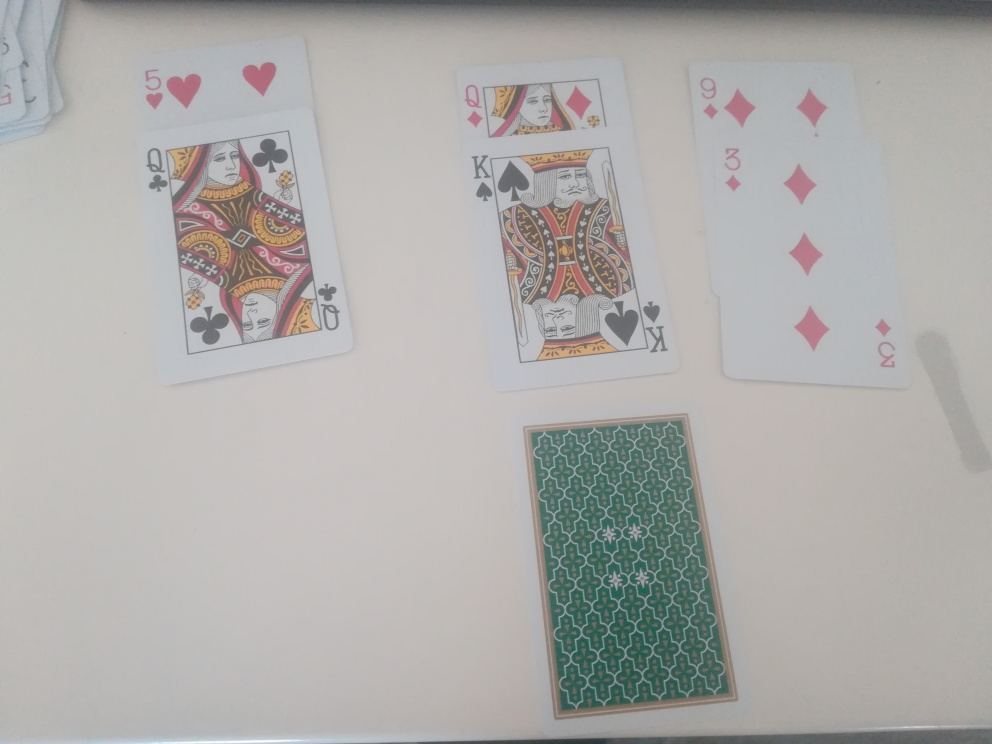3D: (721, 146, 754, 201)
5H: (141, 64, 167, 117)
9D: (697, 72, 724, 127)
BACK: (524, 423, 744, 724)
KS: (468, 152, 498, 207)
QC: (143, 140, 172, 203)
QD: (459, 80, 490, 138)
